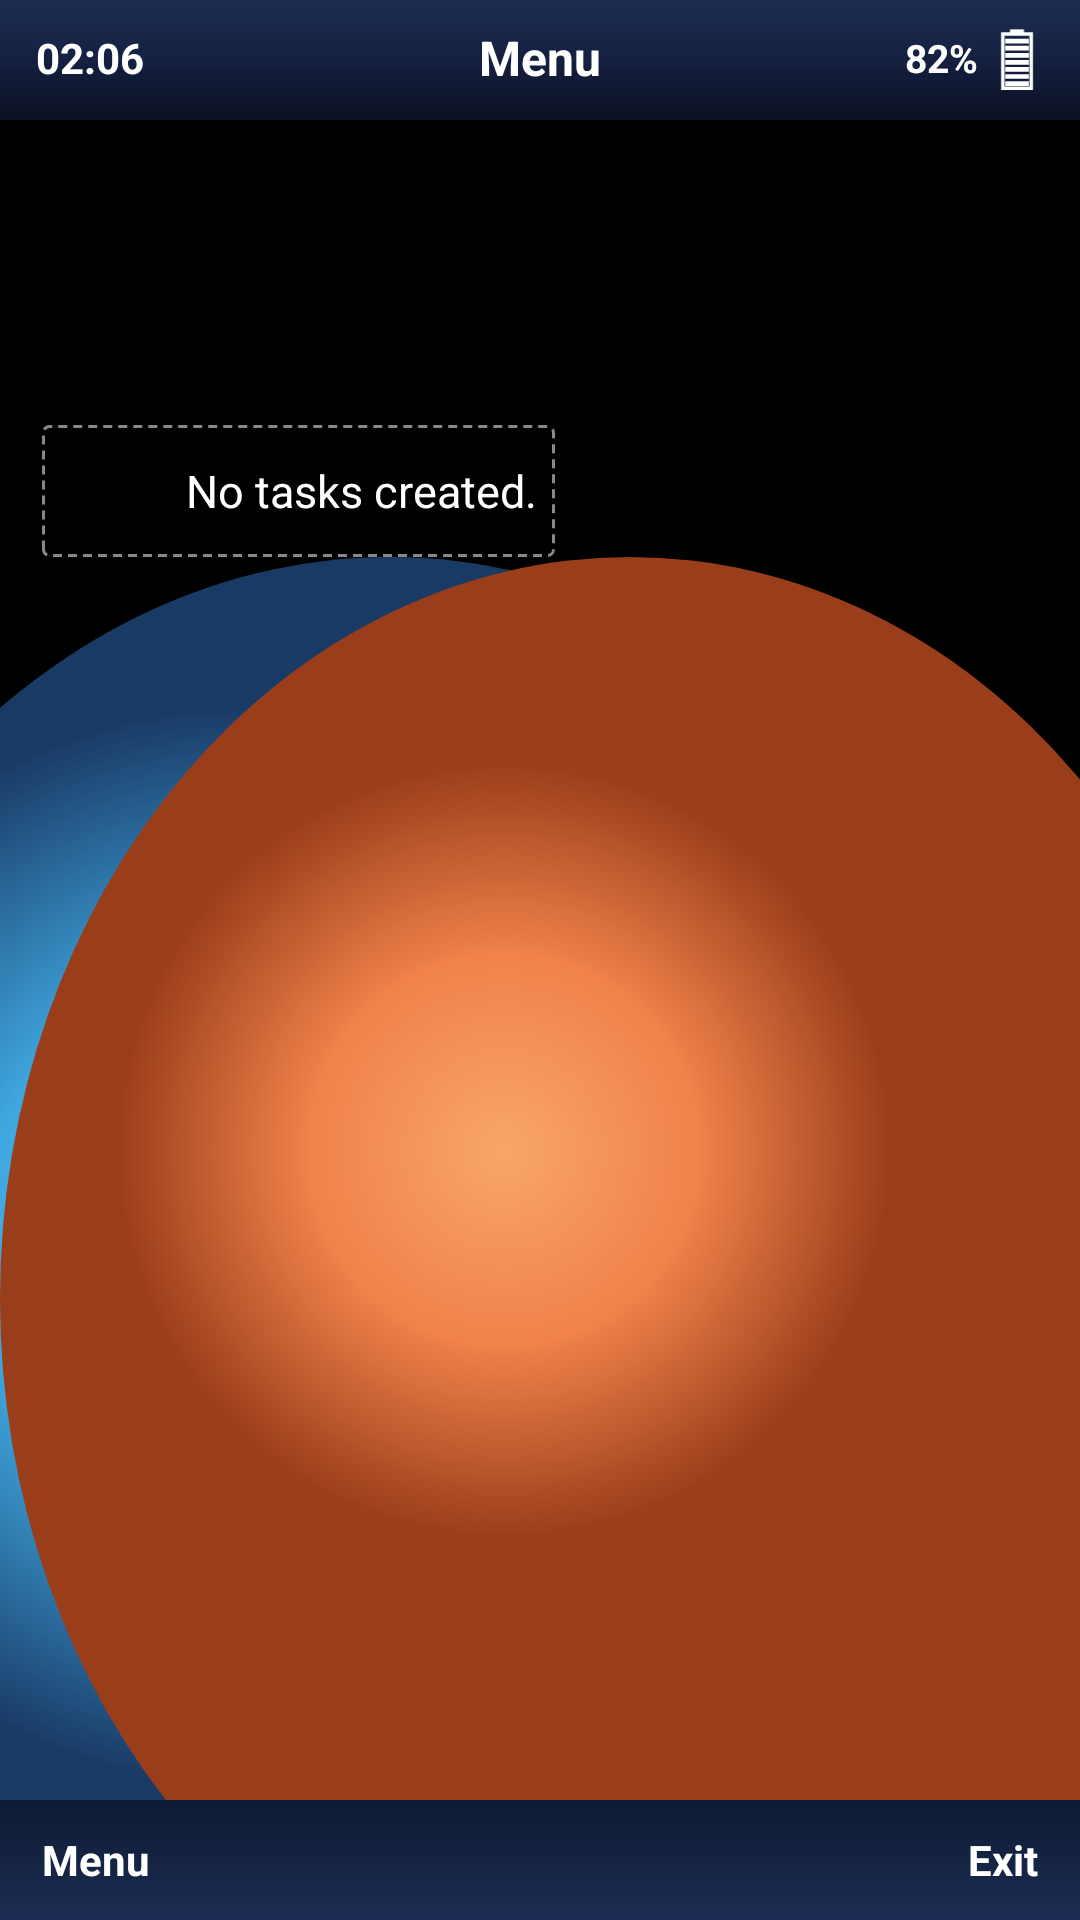

Point at icon controls on the screen. Image size 1080×1920, points as (x=x, y=y).
battery bars: (x=1017, y=58)
